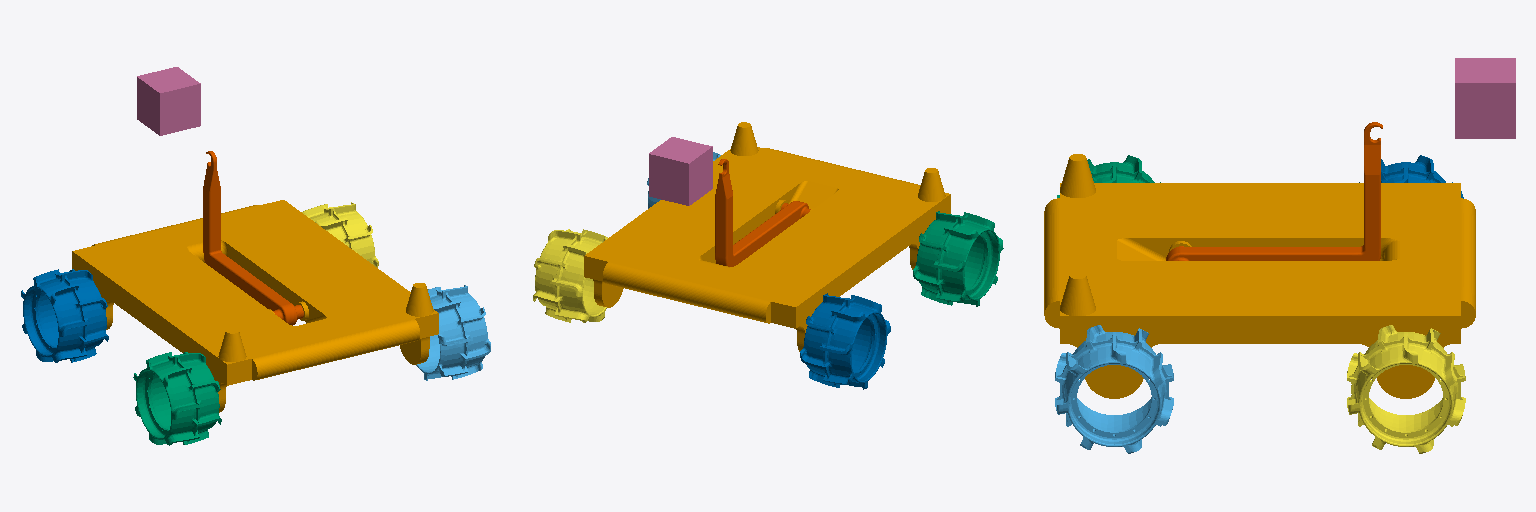
robot.urdf — RoRover:
<?xml version="1.0"?>
<robot name="RoRover">

  <gazebo>
    <plugin name="gazebo_ros_control" filename="libgazebo_ros_control.so">
      <!--robotNamespace>/rorover</robotNamespace-->
    </plugin>
  </gazebo>

      <link name='chassis'>

        <collision name='collision'>
          <origin xyz="0.0 0.0 0.0" rpy="1.5707 0.0 0.0" />
          <geometry>
            <mesh filename="package://rorover_skid_steer/meshes/RoRo_Chassis_visual.stl" />
          </geometry>
          <surface>
            <bounce>
              <restitution_coefficient>0.35</restitution_coefficient>
              <threshold>0.025</threshold>
            </bounce>
          </surface>
        </collision>

        <visual name='visual'>
          <origin xyz="0.0 0.0 0.0" rpy="1.5707 0.0 0.0" />
          <geometry>
            <mesh filename="package://rorover_skid_steer/meshes/RoRo_Chassis_visual.stl" />
          </geometry>
        </visual>

      <inertial>
        <mass value="17.199" />
        <origin_old xyz="0.0 -0.002719 -0.125605" rpy="-0.003491 0.0 0.0" />
        <origin xyz="0.0 0.125605 -0.002719" rpy="1.567209 0.0 0.0" />
        <inertia
 	  ixx="0.763546264" ixy="0.0" ixz="0.0"
	  iyy="1.213658318" iyz="0.0"
	  izz="0.465806016" />
      </inertial>
      </link>

      <link name="left_rear_wheel">
        <collision name="collision">
          <origin xyz="0.0 0.0 0.0" rpy="0.0 0.0 0.0" />
          <geometry>
            <cylinder length="0.117" radius="0.1" />
          </geometry>
          <surface>
            <bounce>
              <restitution_coefficient>0.35</restitution_coefficient>
              <threshold>0.025</threshold>
            </bounce>
          </surface>
        </collision>
        <visual name="visual">
          <origin xyz="0.0 0.0 0.0" rpy="0.0 0.0 0.0" />
          <geometry>
            <mesh filename="package://rorover_skid_steer/meshes/wheel_unders.dae" />
          </geometry>
        </visual>
        <inertial>
          <mass value="0.454"/>
	  <origin zyx="0.0 0.0 0.001805" rpy="0.0 0.0 0.5167919915" />
	  <inertia 
	    ixx="0.001983016" ixy="0.0" ixz="0.0"
	    iyy="0.001983016" iyz="0.0"
	    izz="0.00297862" />
        </inertial>
      </link>

      <link name="right_rear_wheel">
        <collision name="collision">
          <origin xyz="0.0 0.0 0.0" rpy="0.0 0.0 0.0" />
          <geometry>
            <cylinder length="0.117" radius="0.1" />
          </geometry>
          <surface>
            <bounce>
              <restitution_coefficient>0.35</restitution_coefficient>
              <threshold>0.025</threshold>
            </bounce>
          </surface>
        </collision>
        <visual name="visual">
          <origin xyz="0.0 0.0 0.0" rpy="0.0 0.0 0.0" />
          <geometry>
            <mesh filename="package://rorover_skid_steer/meshes/wheel_unders.dae" />
          </geometry>
        </visual>
        <inertial>
          <mass value="0.454"/>
	  <origin zyx="0.0 0.0 0.001805" rpy="0.0 0.0 0.5167919915" />
	  <inertia 
	    ixx="0.001983016" ixy="0.0" ixz="0.0"
	    iyy="0.001983016" iyz="0.0"
	    izz="0.00297862" />
        </inertial>
      </link>

      <link name="left_front_wheel">
        <collision name="collision">
          <origin xyz="0.0 0.0 0.0" rpy="0.0 0.0 0.0" />
          <geometry>
            <cylinder length="0.117" radius="0.1" />
          </geometry>
          <surface>
            <bounce>
              <restitution_coefficient>0.35</restitution_coefficient>
              <threshold>0.025</threshold>
            </bounce>
          </surface>
        </collision>
        <visual name="visual">
          <origin xyz="0.0 0.0 0.0" rpy="0.0 0.0 0.0" />
          <geometry>
            <mesh filename="package://rorover_skid_steer/meshes/wheel_unders.dae" />
          </geometry>
        </visual>
        <inertial>
          <mass value="0.454"/>
	  <origin zyx="0.0 0.0 0.001805" rpy="0.0 0.0 0.5167919915" />
	  <inertia 
	    ixx="0.001983016" ixy="0.0" ixz="0.0"
	    iyy="0.001983016" iyz="0.0"
	    izz="0.00297862" />
        </inertial>
      </link>

      <link name="right_front_wheel">
        <collision name="collision">
          <origin xyz="0.0 0.0 0.0" rpy="0.0 0.0 0.0" />
          <geometry>
            <cylinder length="0.117" radius="0.1" />
          </geometry>
          <surface>
            <bounce>
              <restitution_coefficient>0.35</restitution_coefficient>
              <threshold>0.025</threshold>
            </bounce>
          </surface>
        </collision>
        <visual name="visual">
          <origin xyz="0.0 0.0 0.0" rpy="0.0 0.0 0.0" />
          <geometry>
            <mesh filename="package://rorover_skid_steer/meshes/wheel_unders.dae" />
          </geometry>
        </visual>
        <inertial>
          <mass value="0.454"/>
	  <origin zyx="0.0 0.0 0.001805" rpy="0.0 0.0 0.5167919915" />
	  <inertia 
	    ixx="0.001983016" ixy="0.0" ixz="0.0"
	    iyy="0.001983016" iyz="0.0"
	    izz="0.00297862" />
        </inertial>
      </link>

      <link name="hook">
        <collision name="collision">
          <origin xyz="0.0 0.0 0.0" rpy="1.5707 0.0 0.0" />
          <geometry>
            <mesh filename="package://rorover_skid_steer/meshes/Hook_Arm_300_collision.stl" />
          </geometry>
          <surface>
            <bounce>
              <restitution_coefficient>0.35</restitution_coefficient>
              <threshold>0.025</threshold>
            </bounce>
          </surface>
        </collision>

        <visual name="visual">
          <origin xyz="0.0 0.0 0.0" rpy="1.5707 0.0 0.0" />
          <geometry>
            <mesh filename="package://rorover_skid_steer/meshes/Hook_Arm_300_visual.stl" />
          </geometry>
        </visual>

        <inertial>
          <mass value="0.694" />
	  <origin xyz="0.010 0.182083 0.027234" rpy="1.88538 0.0 0.0" />
	  <inertia 
	    ixx="0.011472852" ixy="0.0" ixz="0.0"
	    iyy="0.010056381" iyz="0.0"
	    izz="0.001549328" />
        </inertial>
      </link>

      <joint type="continuous" name="left_rear_wheel_hinge">
	<origin xyz="0.33 -0.11 -0.075" rpy="0.0 1.5707 0.0" />
        <child link="left_rear_wheel" />
        <parent link="chassis" />
        <axis xyz="0 0 -1" />
        <dynamics damping="0.1" />
      </joint>

  <transmission name="left_rear_trans">
    <type>transmission_interface/SimpleTransmission</type>
    <joint name="left_rear_wheel_hinge">
      <hardwareInterface>hardware_interface/VelocityJointInterface</hardwareInterface>
    </joint>
    <actuator name="left_rear_motor">
      <mechanicalReduction>1</mechanicalReduction>
    </actuator>
  </transmission>

      <joint type="continuous" name="right_rear_wheel_hinge">
	<origin xyz="-0.33 -0.11 -0.075" rpy="0.0 -1.5707 0.0" />
        <child link="right_rear_wheel" />
        <parent link="chassis" />
        <axis xyz="0 0 1" />
        <dynamics damping="0.1" />
      </joint>

  <transmission name="right_rear_trans">
    <type>transmission_interface/SimpleTransmission</type>
    <joint name="right_rear_wheel_hinge">
      <hardwareInterface>hardware_interface/VelocityJointInterface</hardwareInterface>
    </joint>
    <actuator name="right_rear_motor">
      <mechanicalReduction>1</mechanicalReduction>
    </actuator>
  </transmission>

      <joint type="continuous" name="left_front_wheel_hinge">
	<origin xyz="0.33 0.370 -0.075" rpy="0.0 1.5707 0.0" />
        <child link="left_front_wheel" />
        <parent link="chassis" />
        <axis xyz="0 0 -1" />
        <dynamics damping="0.1" />
      </joint>

  <transmission name="left_front_trans">
    <type>transmission_interface/SimpleTransmission</type>
    <joint name="left_front_wheel_hinge">
      <hardwareInterface>hardware_interface/VelocityJointInterface</hardwareInterface>
    </joint>
    <actuator name="left_front_motor">
      <mechanicalReduction>1</mechanicalReduction>
    </actuator>
  </transmission>

      <joint type="continuous" name="right_front_wheel_hinge">
	<origin xyz="-0.33 0.370 -0.075" rpy="0.0 -1.5707 0.0" />
        <child link="right_front_wheel" />
        <parent link="chassis" />
        <axis xyz="0 0 1" />
        <dynamics damping="0.1" />
      </joint>

  <transmission name="right_front_trans">
    <type>transmission_interface/SimpleTransmission</type>
    <joint name="right_front_wheel_hinge">
      <hardwareInterface>hardware_interface/VelocityJointInterface</hardwareInterface>
    </joint>
    <actuator name="right_front_motor">
      <mechanicalReduction>1</mechanicalReduction>
    </actuator>
  </transmission>

      <joint type="revolute" name="joint1">
	<origin xyz="-0.01 0.0 0.0" rpy="0.0 0.0 0.0" />
        <child link="hook" />
        <parent link="chassis" />
        <axis xyz="1 0 0" />
        <limit lower="-0.0" upper="2.617993878" effort="100" velocity="0.0001" />
        <safety_controller_not k_velocity="100" k_position="100" soft_lower_limit="0.0" soft_upper_limit="2.517" />
      </joint>

  <transmission name="hook_trans">
    <type>transmission_interface/SimpleTransmission</type>
    <joint name="joint1">
      <hardwareInterface>hardware_interface/EffortJointInterface</hardwareInterface>
    </joint>
    <actuator name="hook_motor">
      <mechanicalReduction>50</mechanicalReduction>
    </actuator>
  </transmission>

    <link name="camera_link">
      <collision name="collision">
        <origin xyz="0.0 0.0 0.0" rpy="0.0 0.0 0.0" />
        <geometry>
          <box size="0.1 0.1 0.1" />
        </geometry>
      </collision>
      <visual name="visual">
        <origin xyz="0.0 0.0 0.0" rpy="0.0 0.0 0.0" />
        <geometry>
          <box size="0.1 0.1 0.1" />
        </geometry>
      </visual>
        <inertial>
          <mass value="0.1" />
	  <origin xyz="0.0 0.0 0.0" rpy="0.0 0.0 0.0" />
	  <inertia 
	    ixx="0.001" ixy="0.0" ixz="0.0"
	    iyy="0.001" iyz="0.0"
	    izz="0.001" />
        </inertial>
    </link>

      <joint type="fixed" name="camera_link">
	<origin xyz="0.0 0.5 0.3" rpy="0.0 0.0 -1.5707" />
        <child link="camera_link" />
        <parent link="chassis" />
      </joint>

  <!-- camera -->
  <gazebo reference="camera_link">
    <sensor type="camera" name="camera1">
      <update_rate>30.0</update_rate>
      <camera name="head">
        <horizontal_fov>1.9962634</horizontal_fov>
        <image>
          <width>800</width>
          <height>800</height>
          <format>R8G8B8</format>
        </image>
        <clip>
          <near>0.02</near>
          <far>300</far>
        </clip>
        <noise>
          <type>gaussian</type>
          <!-- Noise is sampled independently per pixel on each frame.
               That pixel's noise value is added to each of its color
               channels, which at that point lie in the range [0,1]. -->
          <mean>0.0</mean>
          <stddev>0.007</stddev>
        </noise>
      </camera>
      <plugin name="camera_controller" filename="libgazebo_ros_camera.so">
        <alwaysOn>true</alwaysOn>
        <updateRate>0.0</updateRate>
        <cameraName>rrbot/camera1</cameraName>
        <imageTopicName>image_raw</imageTopicName>
        <cameraInfoTopicName>camera_info</cameraInfoTopicName>
        <frameName>camera_link</frameName>
        <hackBaseline>0.07</hackBaseline>
        <distortionK1>0.0</distortionK1>
        <distortionK2>0.0</distortionK2>
        <distortionK3>0.0</distortionK3>
        <distortionT1>0.0</distortionT1>
        <distortionT2>0.0</distortionT2>
      </plugin>
    </sensor>
  </gazebo>

</robot>

--- Facts derived from the render (not from the file) ---
3 views of the same robot in one strip: view 1: azimuth 30°, elevation 25°; view 2: azimuth 150°, elevation 25°; view 3: azimuth 270°, elevation 25° (orthographic).
Robot: RoRover — 7 links, 6 joints (1 revolute, 4 continuous, 1 fixed); root link chassis; default pose: all joints at 0.
Visible links, largest first — view 1: chassis, right_front_wheel, right_rear_wheel, left_rear_wheel, camera_link, hook, left_front_wheel; view 2: chassis, right_front_wheel, right_rear_wheel, left_front_wheel, camera_link, hook; view 3: chassis, left_front_wheel, left_rear_wheel, hook, camera_link, right_front_wheel, right_rear_wheel.
Link boxes in pixels (x1,y1,x2,y2): chassis: [72, 200, 438, 412]; right_front_wheel: [21, 269, 108, 362]; right_rear_wheel: [133, 352, 221, 445]; left_rear_wheel: [416, 285, 490, 380]; camera_link: [137, 67, 200, 135]; hook: [203, 151, 303, 325]; left_front_wheel: [302, 202, 378, 267]; chassis: [584, 122, 950, 351]; right_front_wheel: [800, 293, 890, 389]; right_rear_wheel: [913, 211, 1003, 306]; left_front_wheel: [533, 229, 607, 322]; camera_link: [649, 137, 712, 205]; hook: [715, 159, 810, 266]; chassis: [1044, 154, 1475, 398]; left_front_wheel: [1347, 325, 1465, 453]; left_rear_wheel: [1055, 325, 1173, 453]; hook: [1166, 122, 1382, 260]; camera_link: [1455, 58, 1515, 138]; right_front_wheel: [1359, 155, 1463, 198]; right_rear_wheel: [1057, 155, 1160, 197].
Size in the robot's own frame: 0.7777 by 0.775 by 0.525 metres.
6 mesh visuals loaded from 3 distinct referenced files (2 binary STL, 1 Collada DAE).